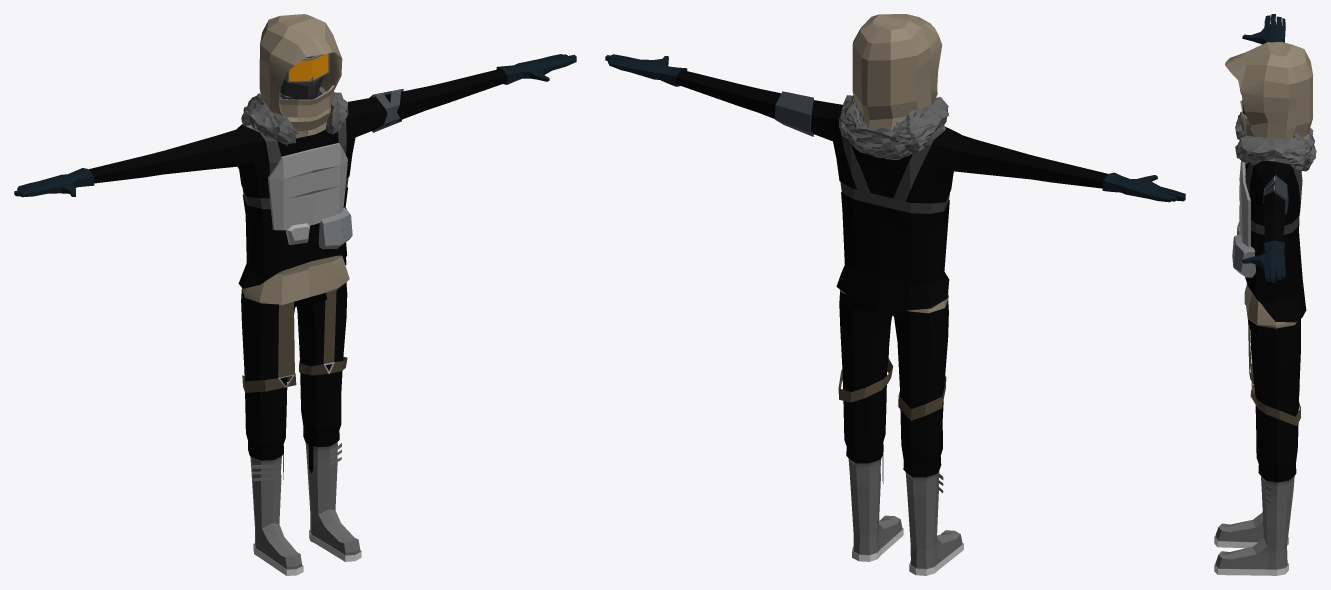
File: TomModel.fbx
The picture shows the model from 3 angles, left to right: view 1: azimuth 30°, elevation 25°; view 2: azimuth 150°, elevation 25°; view 3: azimuth 270°, elevation 25°; orthographic projection. The views are drawn at different scales.
Parts seen in each view (by area): view 1: TOm; view 2: TOm; view 3: TOm.
Boxes of the visible parts, x1,y1,x2,y2 form: TOm: (14,14,576,575); TOm: (605,14,1185,575); TOm: (1214,14,1316,575).
Bounding box in the file's own units: 193 × 173 × 31.58.
